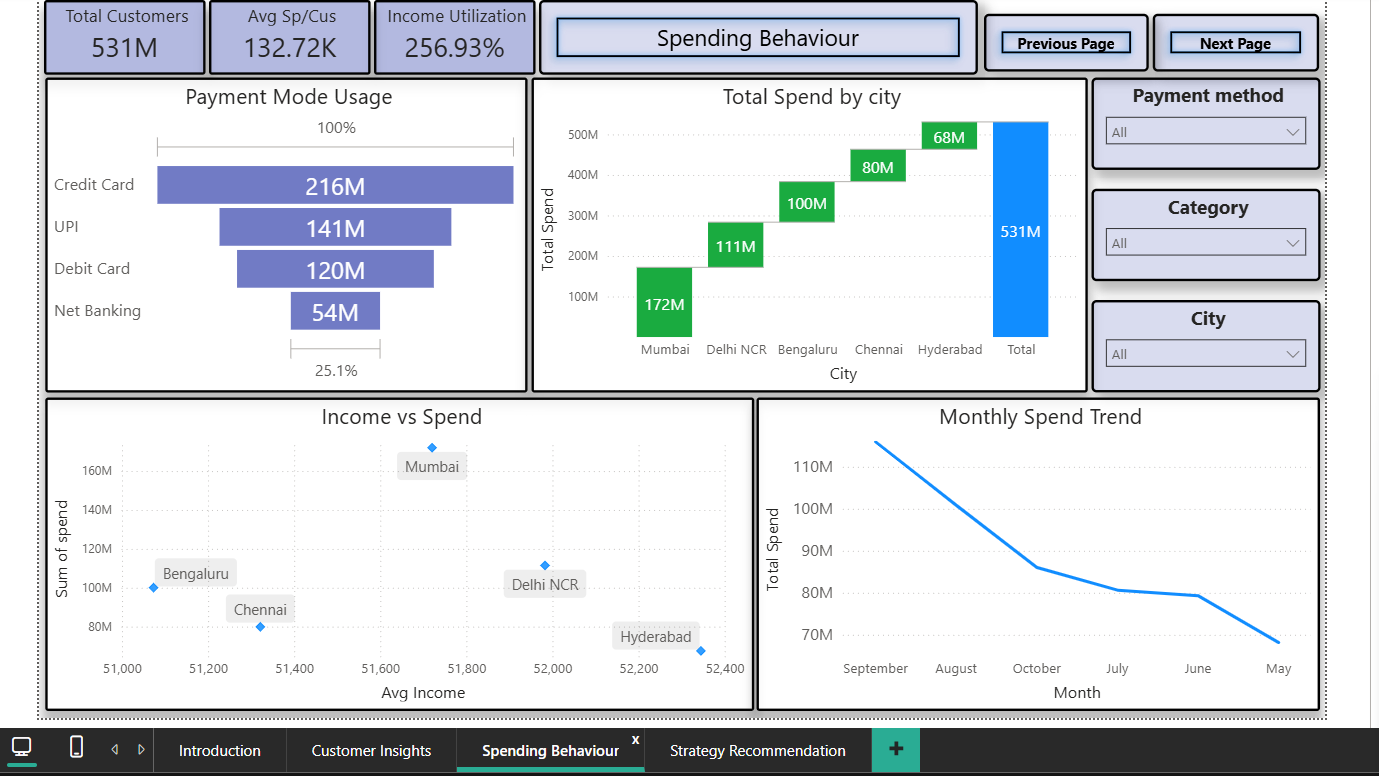

The page's visual inventory and layout, read from the dashboard file:
{"tool":"powerbi","page":{"name":"Spending Behaviour","canvas":[1280,720],"ordinal":2},"visuals":[{"type":"actionButton","box":[497.6,5,436.6,74.6],"z":0},{"type":"card","title":"Total Customers","fields":{"Values":["Customer Spending Details.Total Spend"]},"box":[5,5,160.5,74.6],"z":1000},{"type":"card","title":"Income Utilization","fields":{"Values":["Customer Demographics.Income Utilization"]},"box":[333.4,5,160.5,74.6],"z":2000},{"type":"card","title":"Avg Sp/Cus","fields":{"Values":["Customer Spending Details.Average spend per customer"]},"box":[169.2,5,160.5,74.6],"z":3000},{"type":"actionButton","box":[1108.4,18.7,165.4,57.2],"z":4000},{"type":"actionButton","box":[940.4,18.7,164.2,57.2],"z":5000},{"type":"funnel","title":"Payment Mode Usage","fields":{"Category":["Customer Spending Details.payment_type"],"Y":["Customer Spending Details.Total Spend"]},"box":[6.2,82.1,480.2,313.5],"z":6000},{"type":"waterfallChart","fields":{"Category":["Customer Demographics.city"],"Y":["Customer Spending Details.Total Spend"]},"box":[490.1,82.1,553.6,313.5],"z":7000},{"type":"slicer","title":"City","fields":{"Values":["Customer Demographics.city"]},"box":[1047.4,303.5,227.6,92.1],"z":8000},{"type":"slicer","title":"Category","fields":{"Values":["Customer Spending Details.category"]},"box":[1047.4,192.8,227.6,92.1],"z":9000},{"type":"slicer","title":"Payment method","fields":{"Values":["Customer Spending Details.payment_type"]},"box":[1047.4,82.1,227.6,92.1],"z":10000},{"type":"scatterChart","title":"Income vs Spend","fields":{"X":["Customer Demographics.Avg Income"],"Y":["Sum(Customer Spending Details.spend)"],"Category":["Customer Demographics.city"]},"box":[6.2,400.6,705.3,312.2],"z":11000},{"type":"lineChart","title":"Monthly Spend Trend","fields":{"Category":["Customer Spending Details.month"],"Y":["Customer Spending Details.Total Spend"]},"box":[714,400.6,561,312.2],"z":12000}]}

Visuals, with their boxes on the page's 1280x720 design canvas (x1, y1, x2, y2). These are canvas units, not pixel positions in the 1379x776 screenshot, which may show the page scaled, cropped or inside an application window:
actionButton: Rect(498, 5, 934, 80)
"Total Customers" card: Rect(5, 5, 166, 80)
"Income Utilization" card: Rect(333, 5, 494, 80)
"Avg Sp/Cus" card: Rect(169, 5, 330, 80)
actionButton: Rect(1108, 19, 1274, 76)
actionButton: Rect(940, 19, 1105, 76)
"Payment Mode Usage" funnel: Rect(6, 82, 486, 396)
waterfallChart - Customer Demographics.city x Customer Spending Details.Total Spend: Rect(490, 82, 1044, 396)
"City" slicer: Rect(1047, 304, 1275, 396)
"Category" slicer: Rect(1047, 193, 1275, 285)
"Payment method" slicer: Rect(1047, 82, 1275, 174)
"Income vs Spend" scatterChart: Rect(6, 401, 712, 713)
"Monthly Spend Trend" lineChart: Rect(714, 401, 1275, 713)
